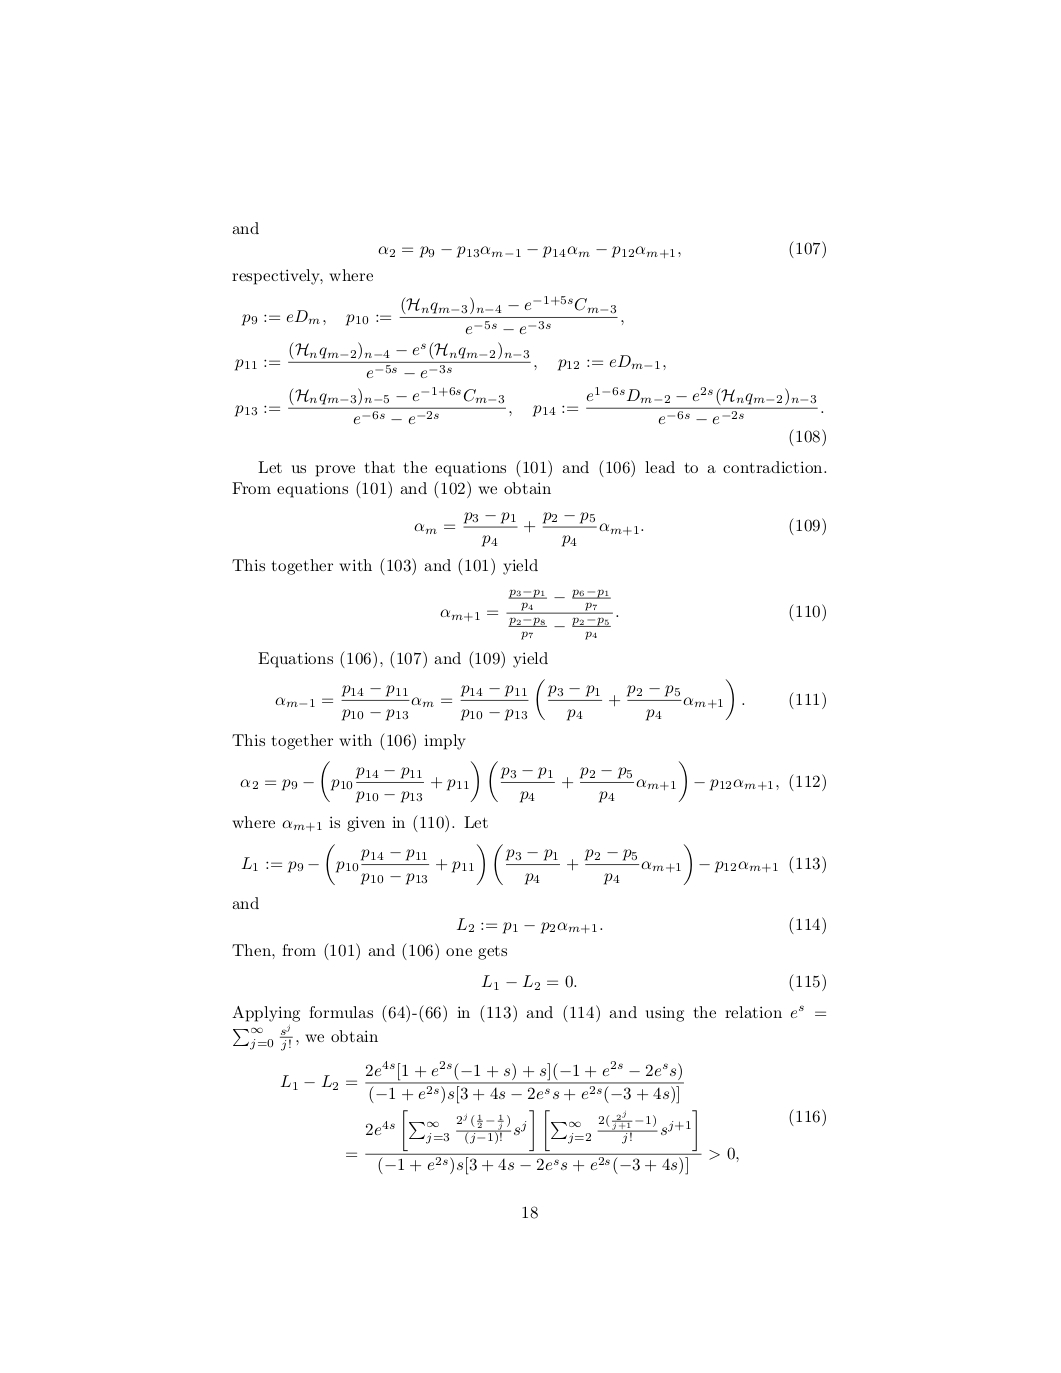formula: (345, 1108, 825, 1175), (240, 760, 825, 804), (241, 843, 825, 885), (275, 678, 825, 721), (234, 384, 822, 425), (440, 590, 825, 639), (280, 1060, 683, 1104), (234, 341, 665, 379), (241, 295, 623, 335), (413, 512, 825, 547), (378, 240, 825, 259), (456, 916, 825, 935), (481, 973, 825, 992)
